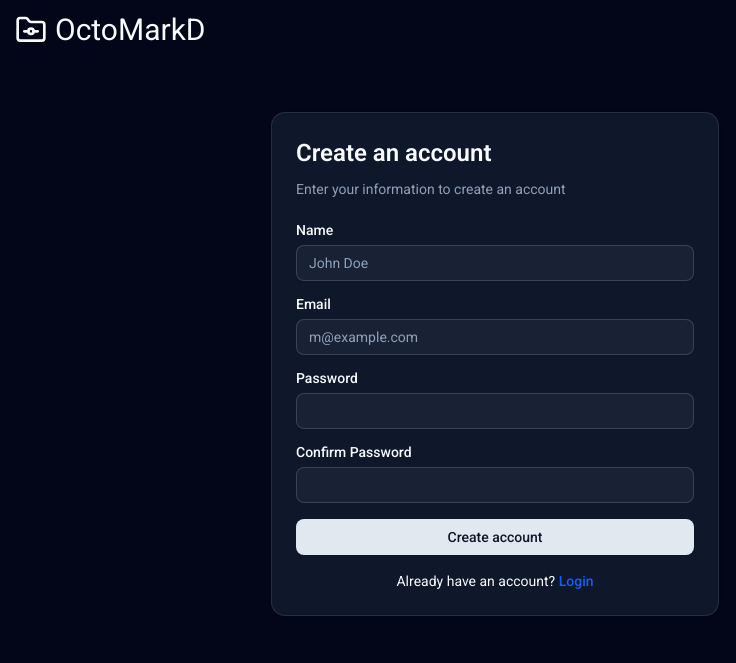
Test: Signup Page › shows error on signup failure
Type "Test User" into the field labelled "Name" at (495, 263), box [296,245,694,281]
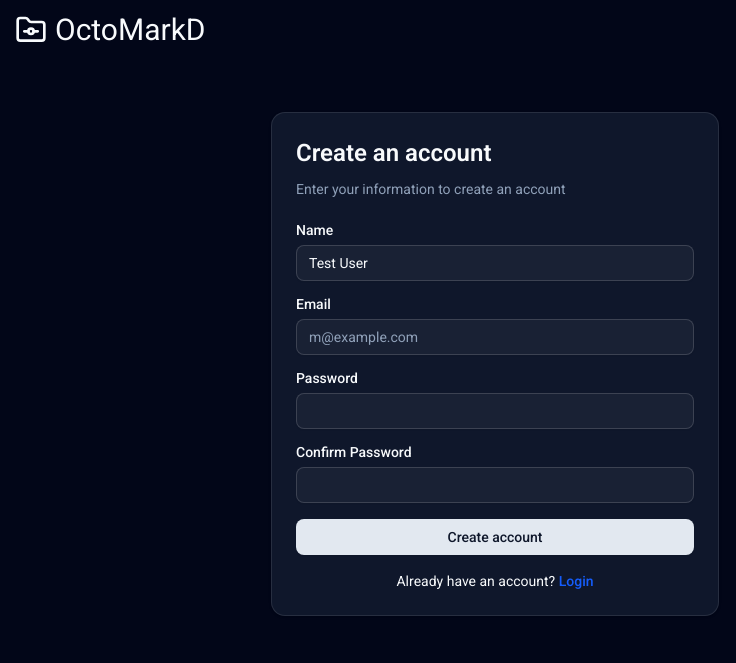
Type "fail@example.com" into the field labelled "Email" at (495, 337), box [296,319,694,355]
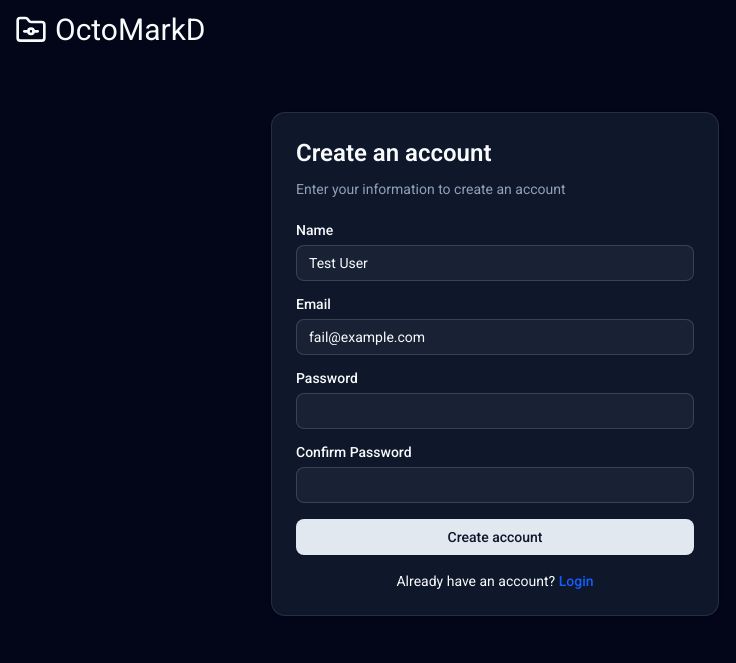
Type "password123" into the password field labelled "Password" at (495, 411), box [296,393,694,429]
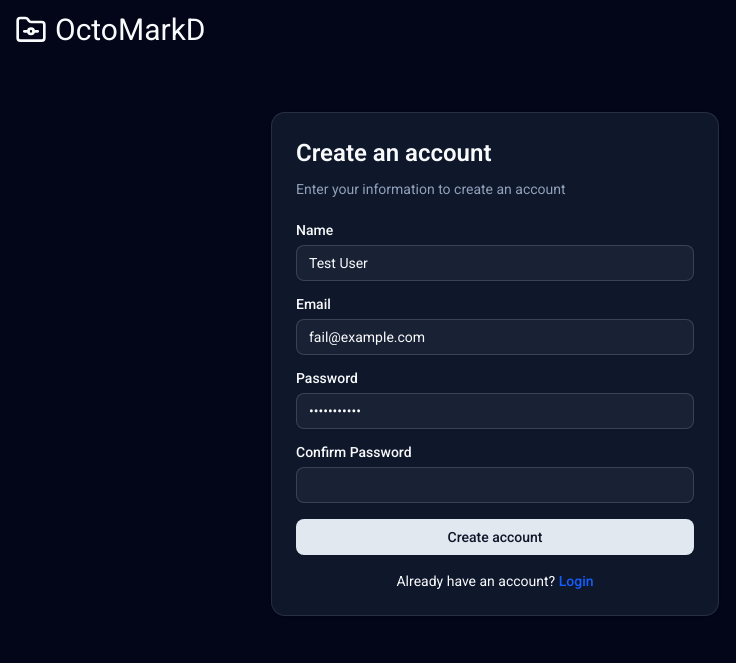
Type "password123" into the password field labelled "Confirm Password" at (495, 485), box [296,467,694,503]
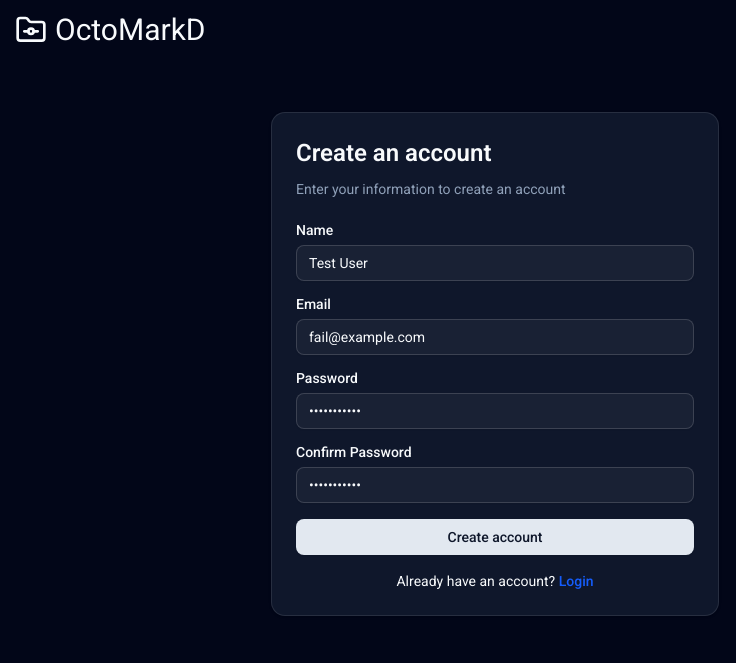
Click the button "Create account" at (495, 537), box [296,519,694,555]
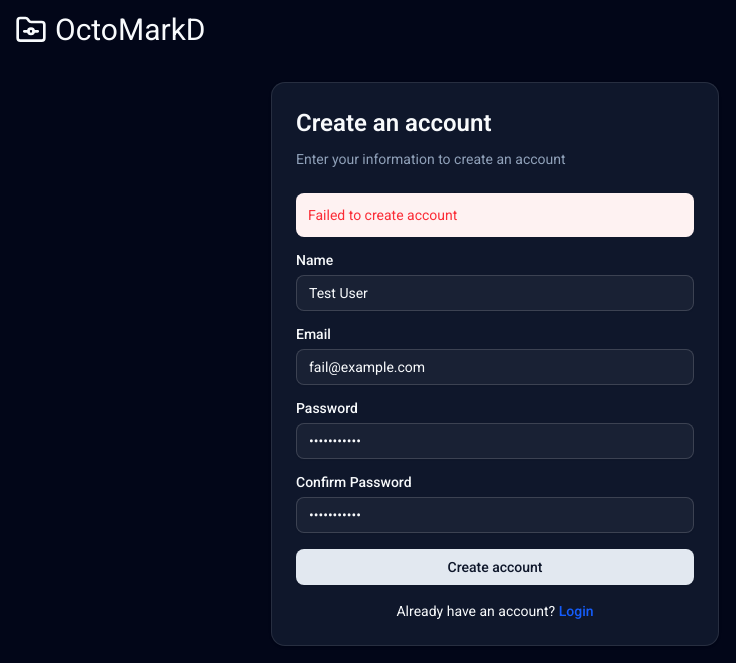
Check: the text "Failed to create account" is shown, box [296,193,694,237]
